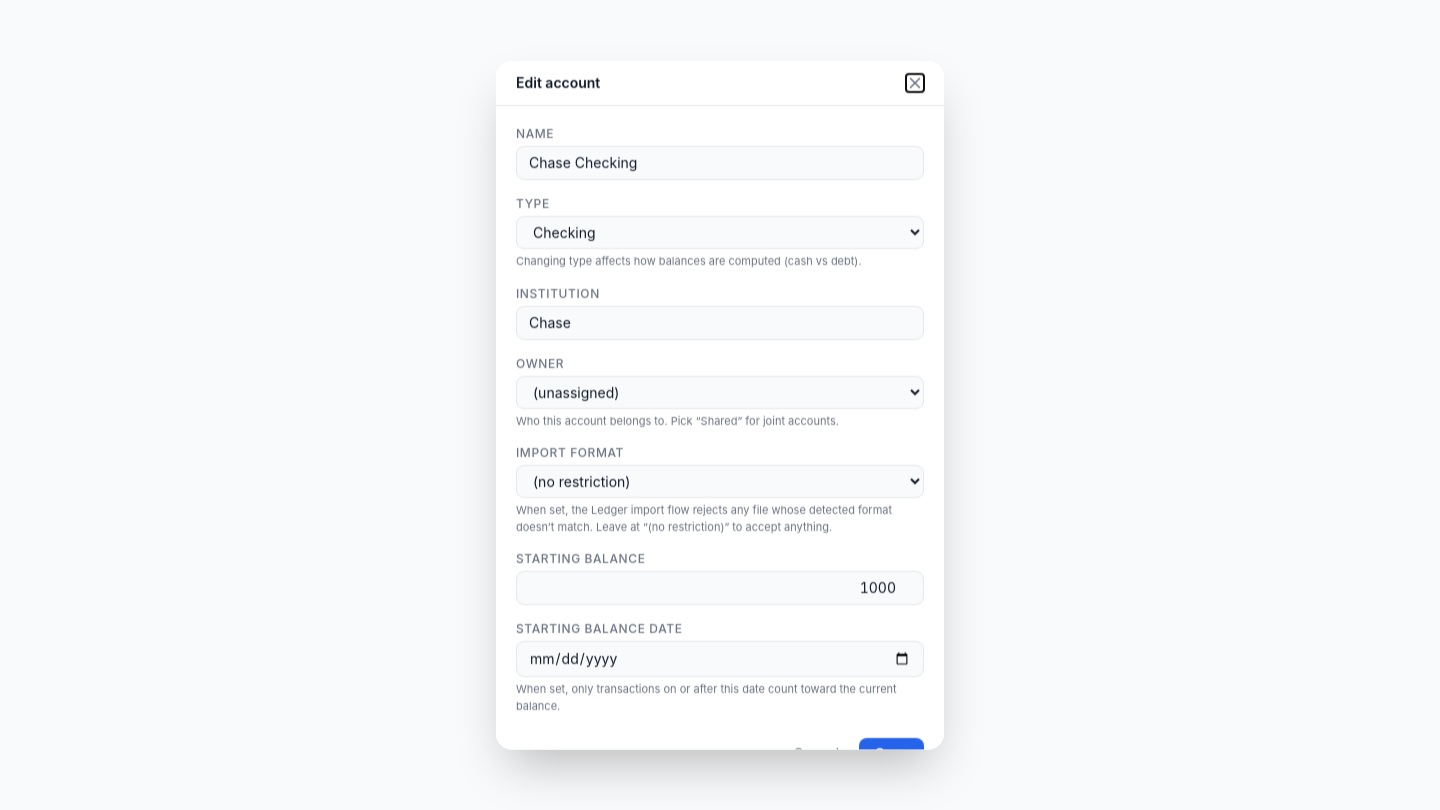
Test: <EditAccountDialog> › blocks submit when starting balance is not a finite number
Clear the number field labelled "Starting balance" at (720, 588), box [516,571,924,605]
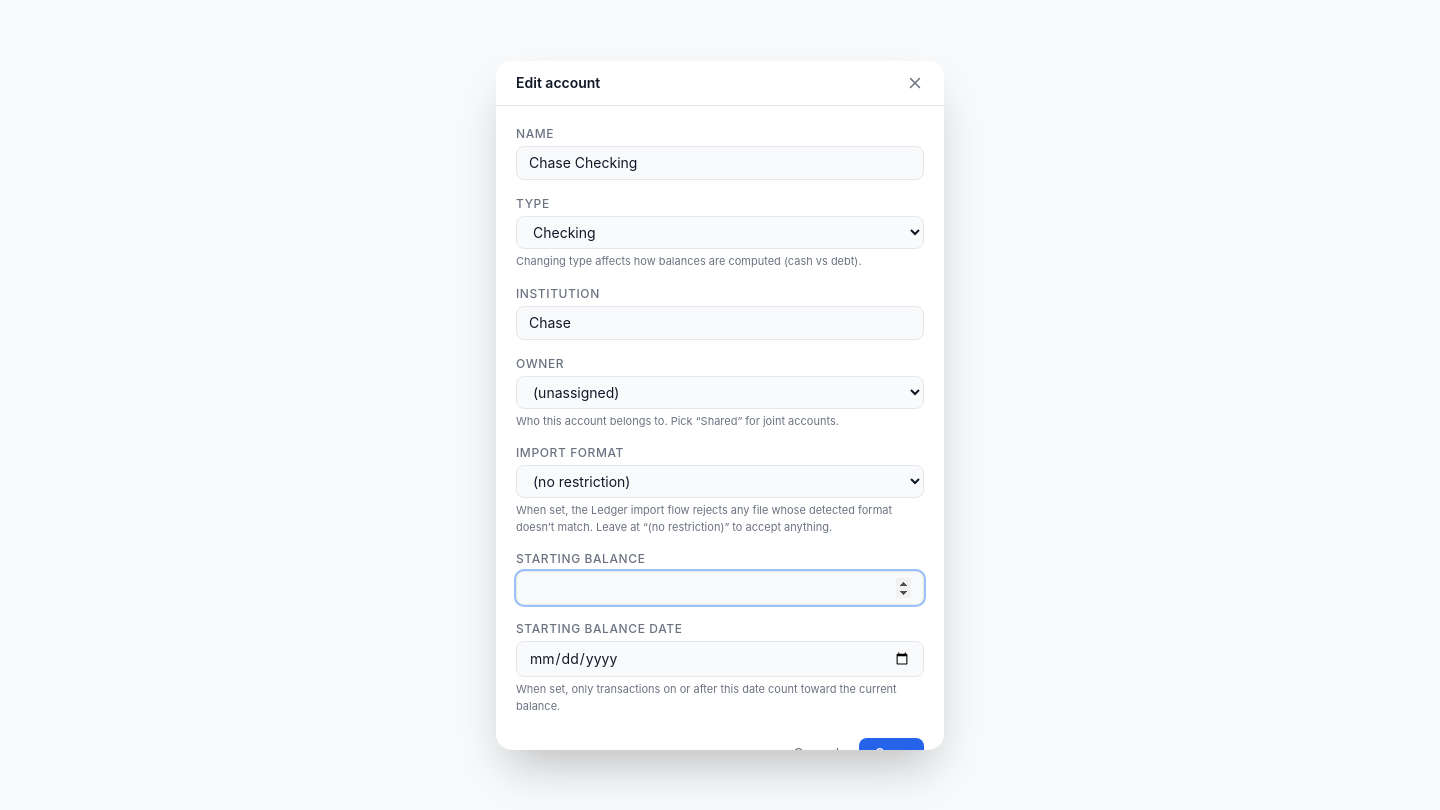
Submit the form named "starting balance", box [496,106,944,790]
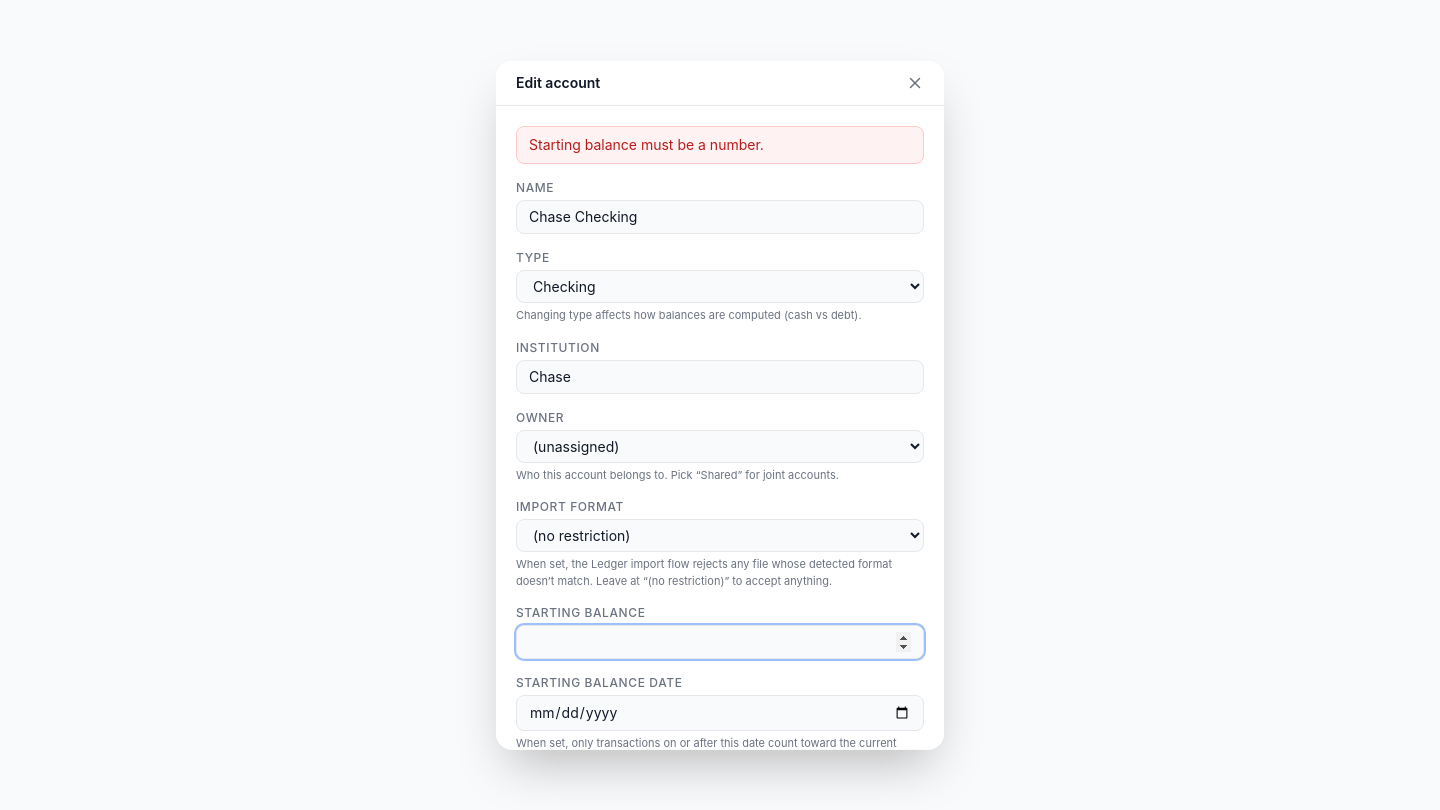
Result: the message shows "Starting balance" at [529,136,764,153]
